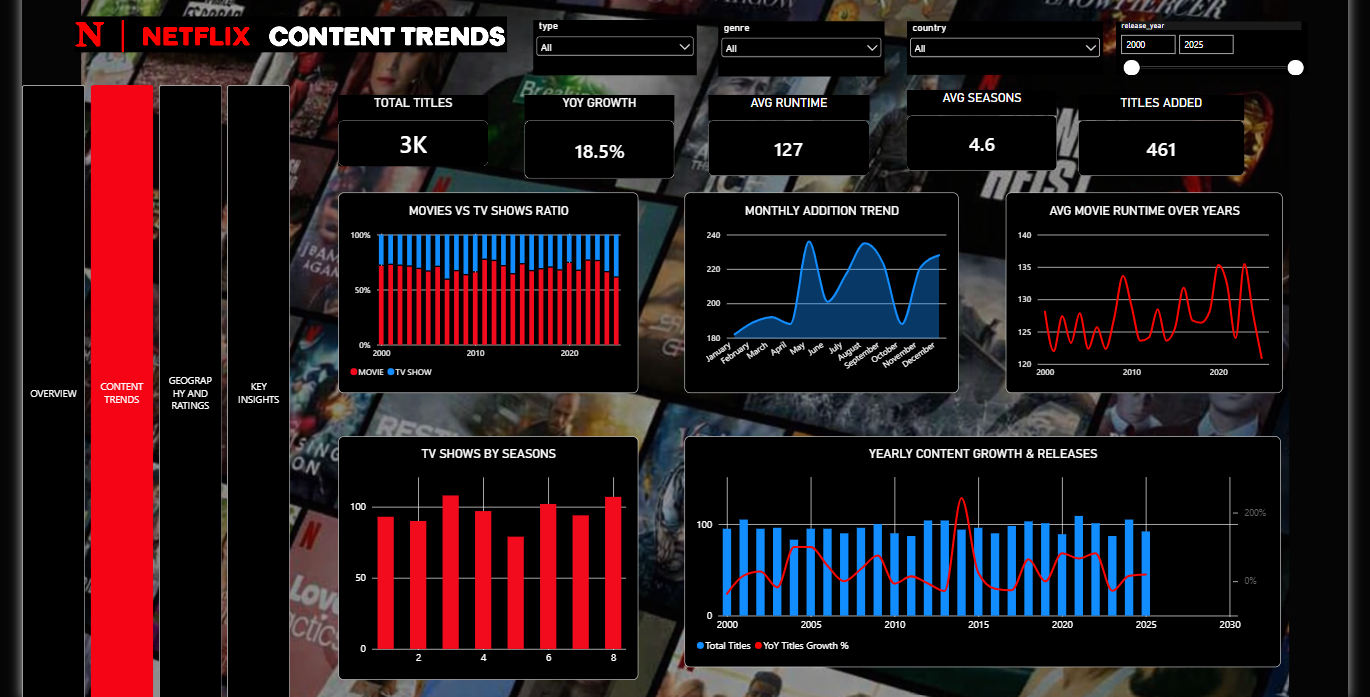

What the dashboard file says about the page in this screenshot:
{"tool":"powerbi","page":{"name":"CONTENT TRENDS","canvas":[1920,1080],"ordinal":1},"visuals":[{"type":"image","box":[0,0,1920.1,1080.4],"z":0},{"type":"cardVisual","title":"TOTAL MOVIES","fields":{"Data":["netflix_real_time_project_dataset.total Movies"]},"box":[436.1,291.4,217.2,103.2],"z":1000},{"type":"cardVisual","title":"MOVIE %","fields":{"Data":["netflix_real_time_project_dataset.movie %"]},"box":[436.1,439.7,217.2,121.2],"z":2000},{"type":"cardVisual","title":"TOTAL TV SHOW","fields":{"Data":["netflix_real_time_project_dataset.total TV Shows"]},"box":[436.1,617.1,217.2,99.5],"z":3000},{"type":"cardVisual","title":"TV SHOW %","fields":{"Data":["netflix_real_time_project_dataset.TV Show %"]},"box":[436.1,781.8,217.2,117.6],"z":4000},{"type":"slicer","fields":{"Values":["netflix_real_time_project_dataset.type"]},"box":[740.2,94.1,237.1,79.6],"z":5000},{"type":"slicer","fields":{"Values":["netflix_real_time_project_dataset.genre"]},"box":[1008,95.9,240.7,79.6],"z":6000},{"type":"slicer","title":"COUNTRY","fields":{"Values":["netflix_real_time_project_dataset.country"]},"box":[1281.2,95.9,284.1,77.8],"z":7000},{"type":"slicer","fields":{"Values":["netflix_real_time_project_dataset.release_year"]},"box":[1583.5,95.9,276.9,77.8],"z":8000},{"type":"pageNavigator","box":[0,188.2,389.1,892.2],"z":9000},{"type":"image","box":[457.8,343.8,32.6,39.8],"z":10000},{"type":"image","box":[436.1,495.8,63.3,43.4],"z":11000},{"type":"image","box":[457.8,647.9,32.6,68.8],"z":12000},{"type":"image","box":[457.8,818,32.6,81.4],"z":13000},{"type":"hundredPercentStackedColumnChart","title":"Movies vs TV Shows by Year","fields":{"Category":["netflix_real_time_project_dataset.release_year"],"Y":["CountNonNull(netflix_real_time_project_dataset.show_id)"],"Series":["netflix_real_time_project_dataset.type"]},"box":[740.2,255.2,562.8,347.5],"z":14000},{"type":"clusteredBarChart","title":"Content by Rating","fields":{"Category":["netflix_real_time_project_dataset.rating"],"Y":["CountNonNull(netflix_real_time_project_dataset.show_id)"]},"box":[1346.4,255.2,528.4,347.5],"z":15000},{"type":"barChart","title":"Top 10 Genres","fields":{"Category":["netflix_real_time_project_dataset.genre"],"Y":["CountNonNull(netflix_real_time_project_dataset.show_id)"]},"box":[740.2,682.2,562.8,367.4],"z":16000},{"type":"barChart","title":"Top 10 Countries","fields":{"Category":["netflix_real_time_project_dataset.country"],"Y":["CountNonNull(netflix_real_time_project_dataset.show_id)"]},"box":[1346.4,682.2,528.4,367.4],"z":17000},{"type":"image","box":[85.1,32.6,626.1,117.6],"z":18000}]}

Visuals, with their boxes on the page's 1920x1080 design canvas (x1, y1, x2, y2). These are canvas units, not pixel positions in the 1370x697 screenshot, which may show the page scaled, cropped or inside an application window:
image: x1=0, y1=0, x2=1920, y2=1080
"TOTAL MOVIES" cardVisual: x1=436, y1=291, x2=653, y2=395
"MOVIE %" cardVisual: x1=436, y1=440, x2=653, y2=561
"TOTAL TV SHOW" cardVisual: x1=436, y1=617, x2=653, y2=717
"TV SHOW %" cardVisual: x1=436, y1=782, x2=653, y2=899
slicer - netflix_real_time_project_dataset.type: x1=740, y1=94, x2=977, y2=174
slicer - netflix_real_time_project_dataset.genre: x1=1008, y1=96, x2=1249, y2=176
"COUNTRY" slicer: x1=1281, y1=96, x2=1565, y2=174
slicer - netflix_real_time_project_dataset.release_year: x1=1584, y1=96, x2=1860, y2=174
pageNavigator: x1=0, y1=188, x2=389, y2=1080
image: x1=458, y1=344, x2=490, y2=384
image: x1=436, y1=496, x2=499, y2=539
image: x1=458, y1=648, x2=490, y2=717
image: x1=458, y1=818, x2=490, y2=899
"Movies vs TV Shows by Year" hundredPercentStackedColumnChart: x1=740, y1=255, x2=1303, y2=603
"Content by Rating" clusteredBarChart: x1=1346, y1=255, x2=1875, y2=603
"Top 10 Genres" barChart: x1=740, y1=682, x2=1303, y2=1050
"Top 10 Countries" barChart: x1=1346, y1=682, x2=1875, y2=1050
image: x1=85, y1=33, x2=711, y2=150
